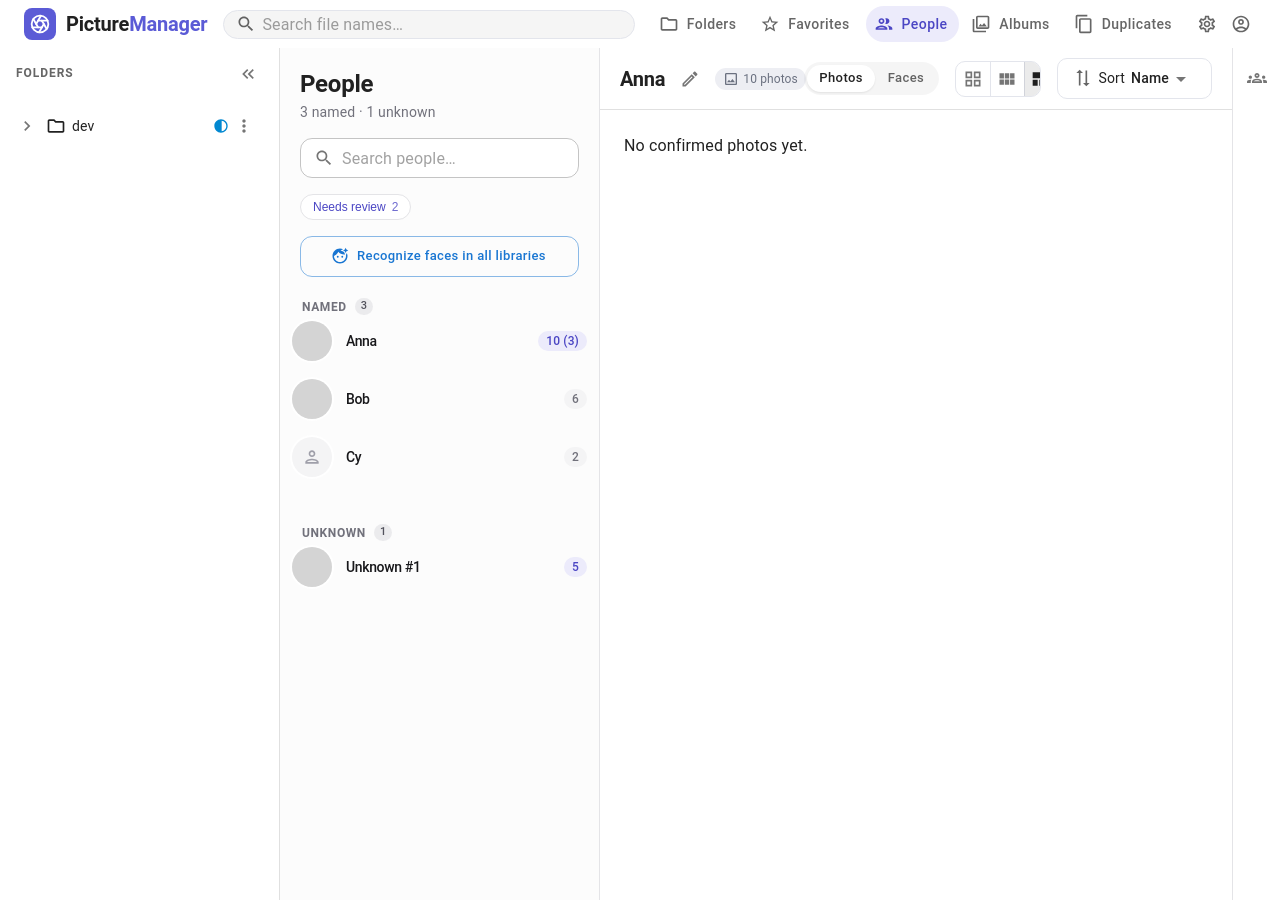
Test case: PersonView › people together with this person › asks the server for them only once the panel is opened
Check: the heading "Anna" is shown, box [620,62,665,94]
Click the button named "Show people together with Anna".
click(1256, 78)  # box [1238,60,1274,96]
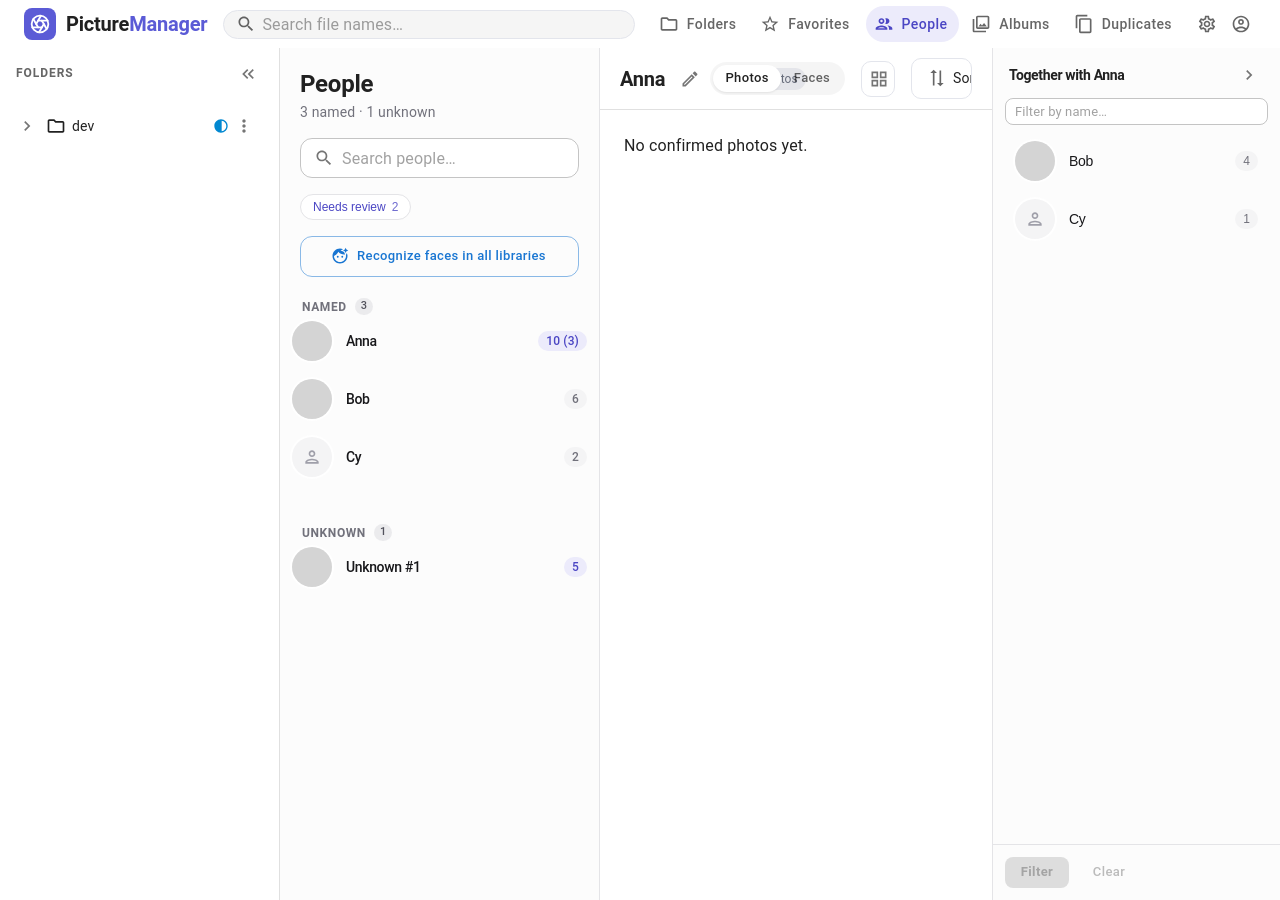
Check: the button with aria-label "Bob, 4 photos together" is shown, box [1005,133,1268,189]
Check: the button with aria-label "Cy, 1 photo together" is shown, box [1005,191,1268,247]
